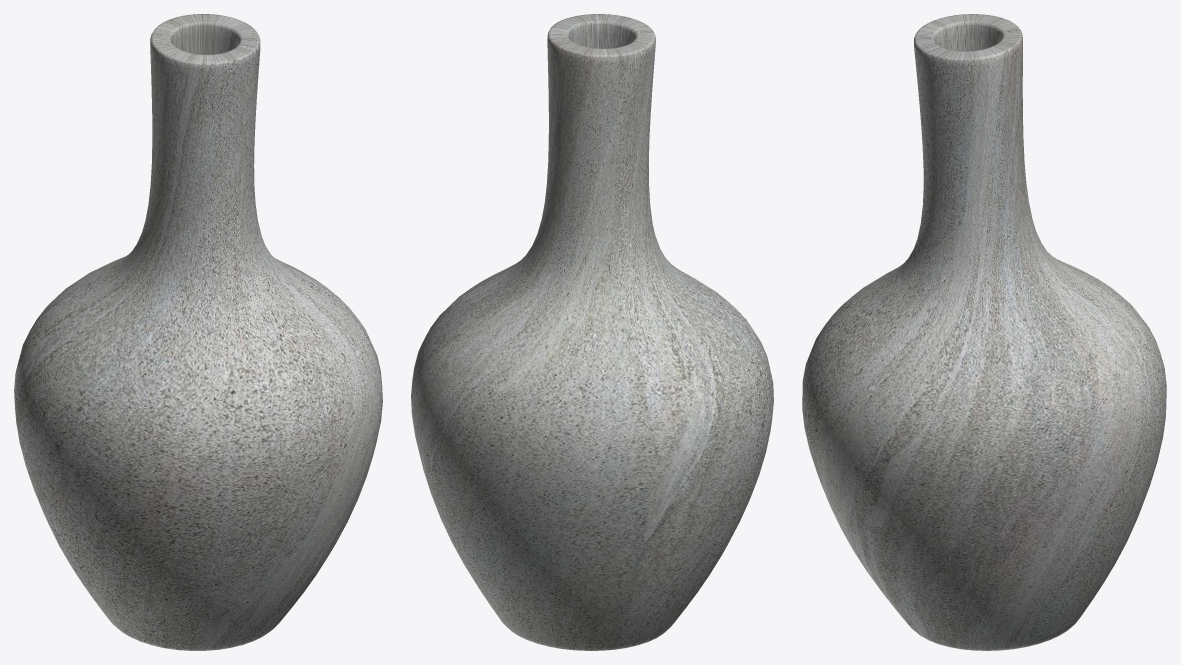
The model's file is Jarron.obj.
The picture shows the model from 3 angles, left to right: view 1: azimuth 30°, elevation 25°; view 2: azimuth 150°, elevation 25°; view 3: azimuth 270°, elevation 25°; orthographic projection.
Bounding box in the file's own units: 4.39 × 7.75 × 4.38.
Materials: 1 (1 with a texture image).
